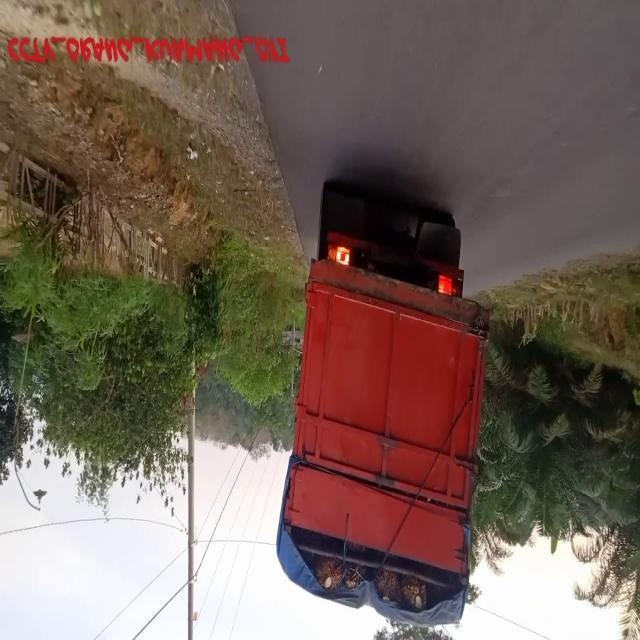Truck: (276, 165, 488, 640)
